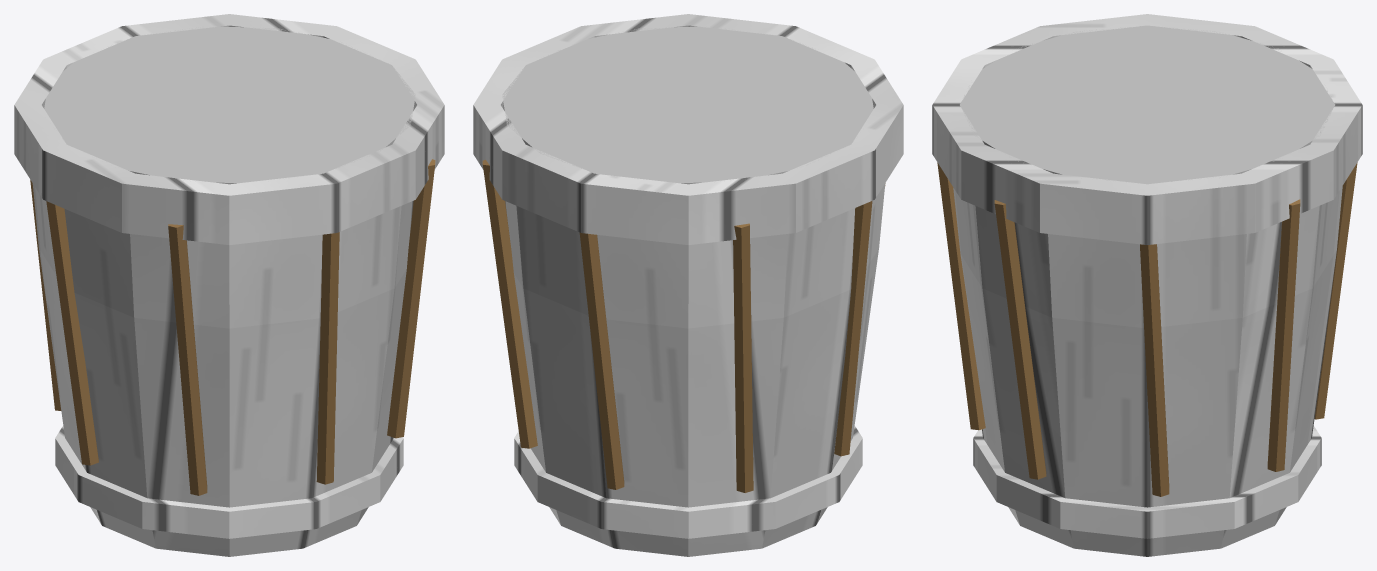
File: ritual_drum.obj
3 renders of one model, left to right at view 1: azimuth 30°, elevation 25°; view 2: azimuth 150°, elevation 25°; view 3: azimuth 270°, elevation 25°, orthographic.
Parts seen in each view (by area): view 1: ritual_drum; view 2: ritual_drum; view 3: ritual_drum.
Boxes of the visible parts, x1,y1,x2,y2 form: ritual_drum: (14, 14, 444, 556); ritual_drum: (473, 14, 903, 556); ritual_drum: (932, 14, 1362, 556).
Size of the model in its own units: 0.79 by 0.79 by 0.79.
